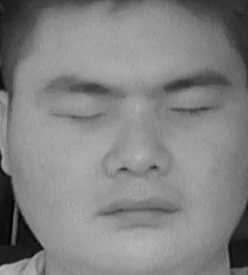blink: (55, 95, 106, 131), (171, 92, 222, 126)
mouth: (94, 185, 181, 230)
